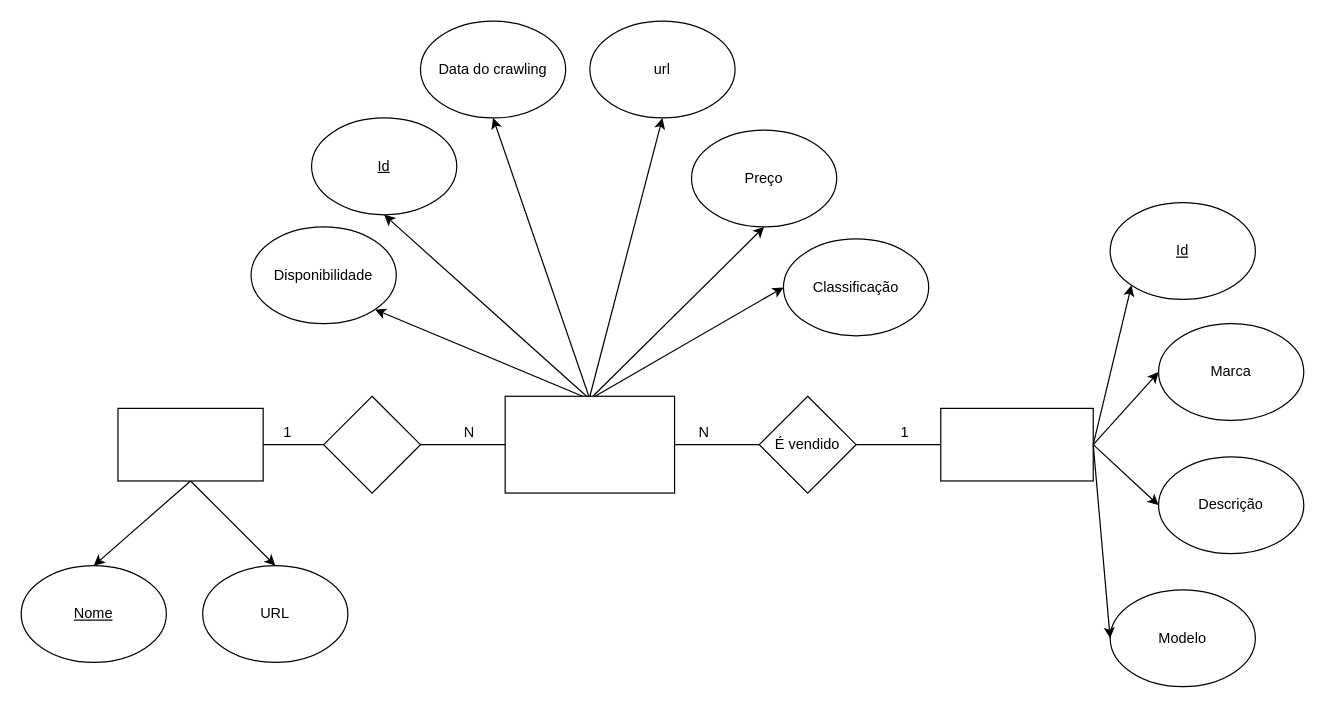
The diagram is 1325 pixels wide and 708 high, and some of its shapes have lost their labels. Here are the shapes that lost their labels. From the top down, the centre of each, then its label:
At [190,444]: "Loja".
At [371,444]: "Vende".
At [589,444]: "Loja_vende_notebook".
At [1016,444]: "Notebook".
